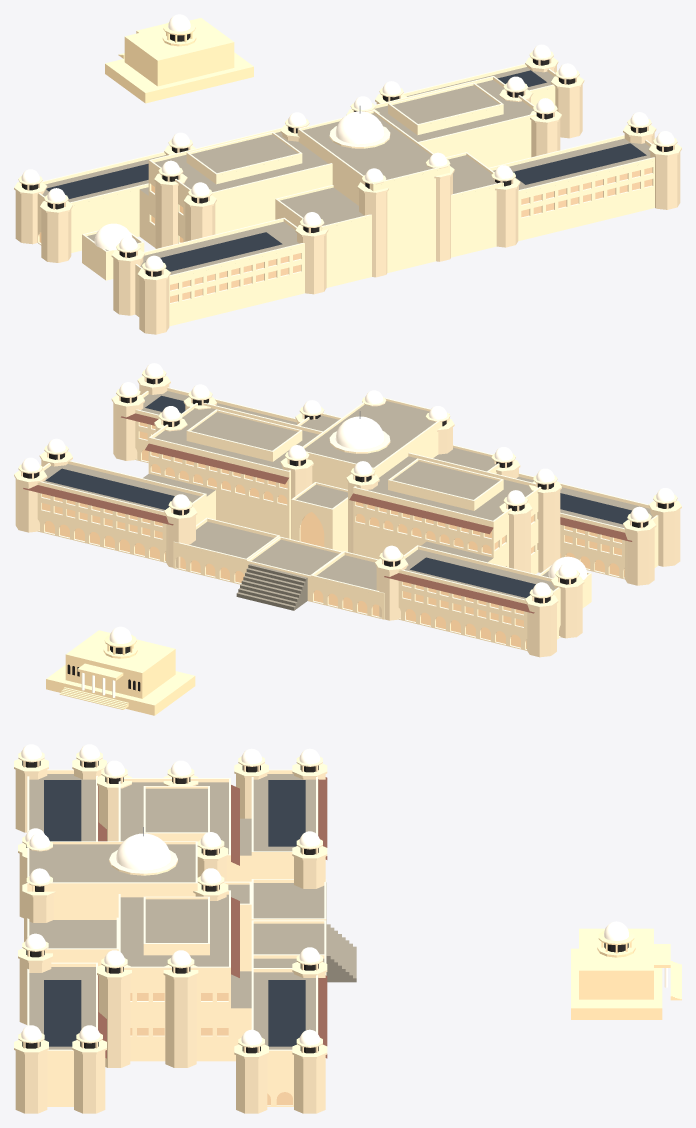
The model's file is pm_secretariat.glb.
3 renders of one model, top to bottom at view 1: azimuth 30°, elevation 25°; view 2: azimuth 150°, elevation 25°; view 3: azimuth 270°, elevation 25°, orthographic. The views are drawn at different scales.
Parts seen in each view (by area): view 1: m_wall_cream, m_tower_stone, m_roof_pale, m_pavilion_stone, m_dome_white, m_solar_panel, m_window_dark, m_shadow_recess; view 2: m_wall_cream, m_roof_pale, m_tower_stone, m_window_dark, m_pavilion_stone, m_dome_white, m_solar_panel, m_canopy_terracotta, m_shadow_recess; view 3: m_roof_pale, m_tower_stone, m_wall_cream, m_solar_panel, m_pavilion_stone, m_dome_white, m_canopy_terracotta, m_shadow_recess, m_window_dark.
Part boxes in pixels (x1,y1,x2,y2): m_wall_cream: [37, 63, 654, 326]; m_tower_stone: [14, 51, 681, 334]; m_roof_pale: [42, 67, 650, 274]; m_pavilion_stone: [105, 18, 253, 103]; m_dome_white: [21, 14, 674, 269]; m_solar_panel: [46, 70, 646, 271]; m_window_dark: [39, 167, 652, 302]; m_shadow_recess: [22, 34, 672, 276]; m_wall_cream: [37, 387, 658, 650]; m_roof_pale: [43, 391, 653, 610]; m_tower_stone: [14, 370, 681, 657]; m_window_dark: [42, 422, 624, 648]; m_pavilion_stone: [46, 630, 195, 715]; m_dome_white: [21, 363, 674, 697]; m_solar_panel: [45, 395, 631, 597]; m_canopy_terracotta: [23, 413, 632, 613]; m_shadow_recess: [23, 377, 673, 691]; m_roof_pale: [29, 774, 356, 1049]; m_tower_stone: [14, 752, 327, 1113]; m_wall_cream: [27, 769, 326, 1106]; m_solar_panel: [44, 780, 305, 1046]; m_pavilion_stone: [571, 928, 681, 1019]; m_dome_white: [21, 744, 667, 1045]; m_canopy_terracotta: [98, 777, 327, 1058]; m_shadow_recess: [22, 761, 628, 1053]; m_window_dark: [130, 993, 292, 1105].
Size of the model in its own units: 168 by 39 by 161.
